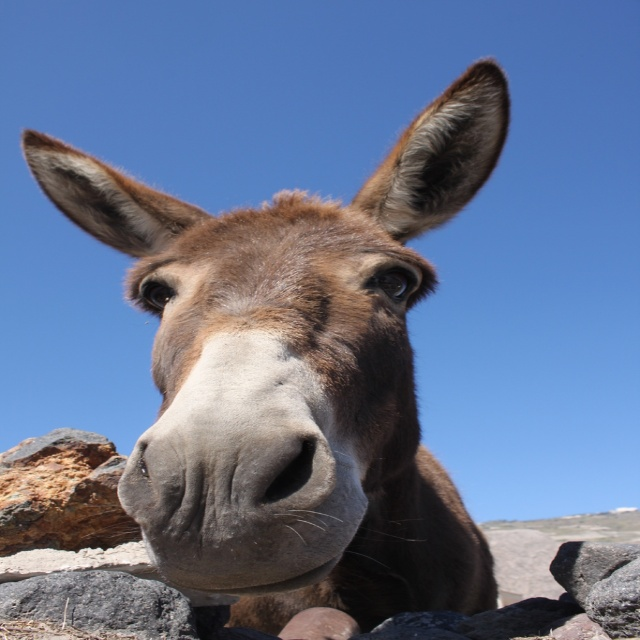Mule: (21, 60, 498, 640)
